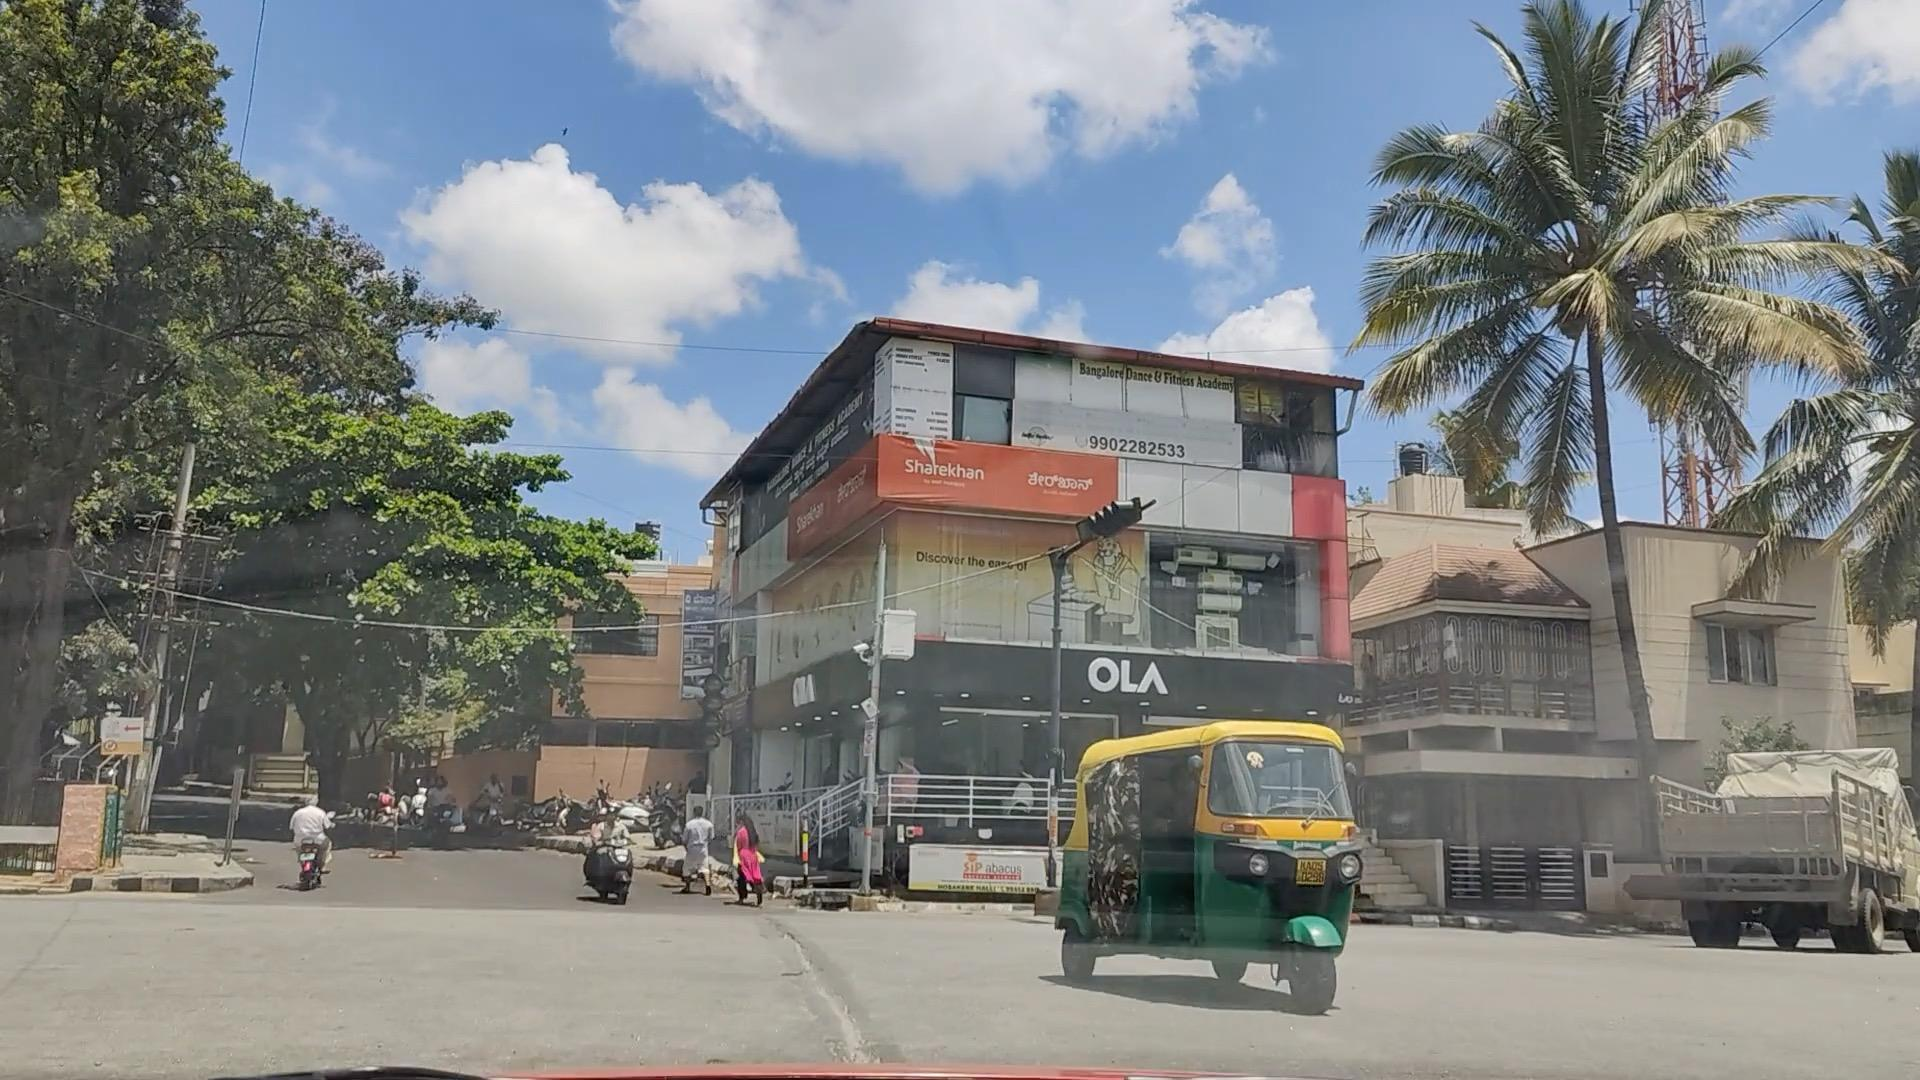HMV: (1663, 744, 1888, 938)
LMV: (1067, 744, 1327, 976)
RoadDamages: (764, 920, 890, 1054)
